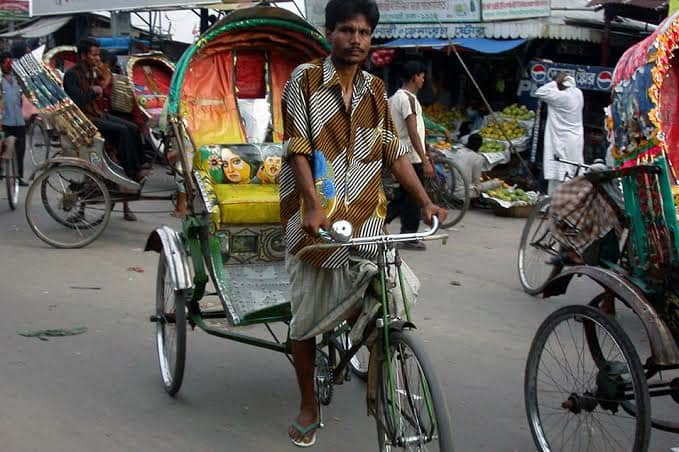Rickshaw: (145, 2, 450, 443), (529, 23, 675, 444), (5, 45, 182, 256), (120, 41, 183, 160)
